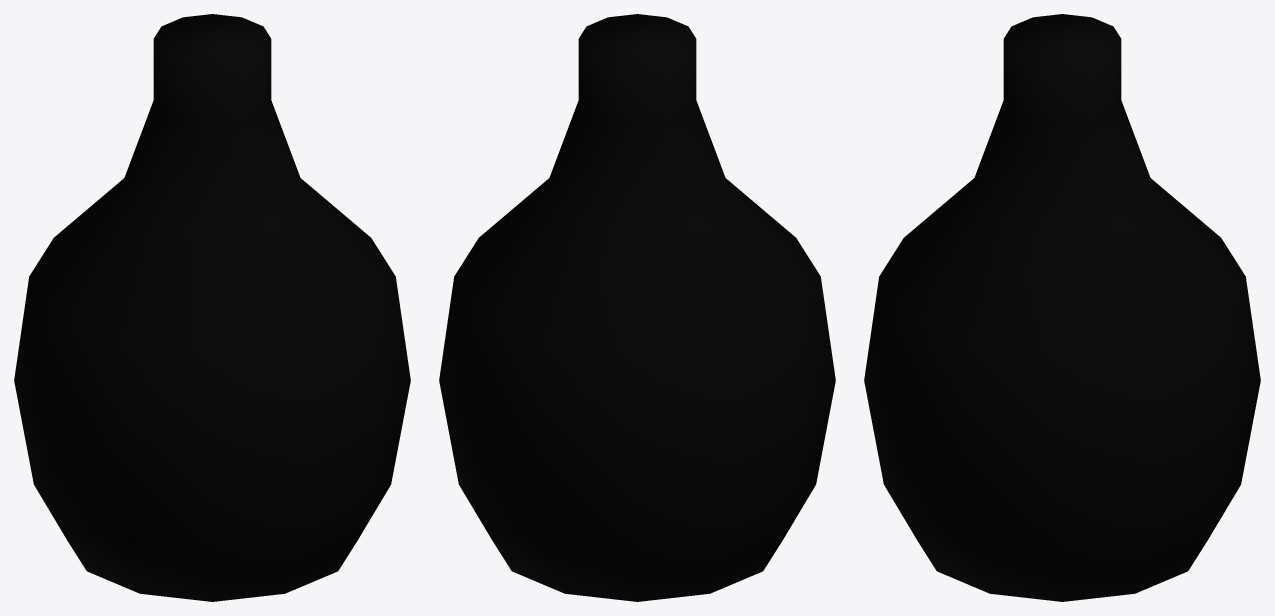
Rendered from heal-potion.glb.
3 views of the same model, side by side, from view 1: azimuth 30°, elevation 25°; view 2: azimuth 150°, elevation 25°; view 3: azimuth 270°, elevation 25° (orthographic).
Parts seen in each view (by area): view 1: Cylinder; view 2: Cylinder; view 3: Cylinder.
Boxes of the visible parts, x1,y1,x2,y2 form: Cylinder: (14,14,410,601); Cylinder: (439,14,835,601); Cylinder: (864,14,1260,601).
Bounding box in the file's own units: 2.09 × 2.91 × 2.09.
Materials: 1 (1 with a texture image).
